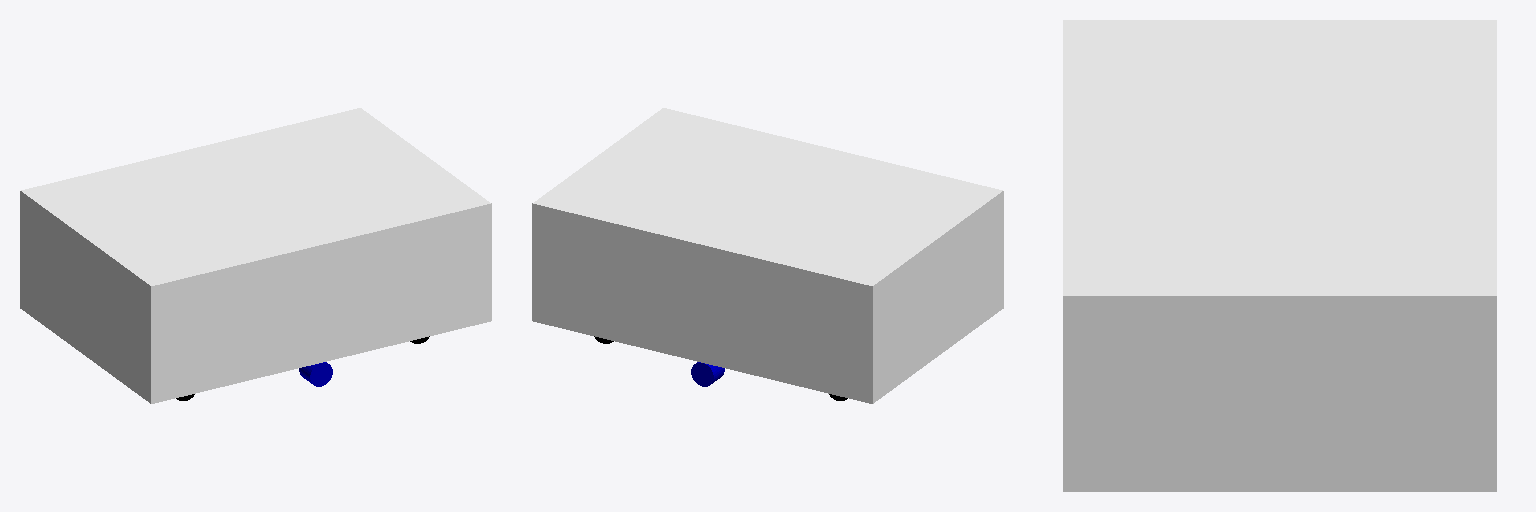
The robot description file, URDF, robot "mir100":
<?xml version="1.0"?>
<robot name="mir100">

  <!-- Material definition -->
  <material name="black">
    <color rgba="0 0 0 1"/>
  </material>

  <material name="white">
    <color rgba="1 1 1 1"/>
  </material>

  <material name="blue">
    <color rgba="0 0 0.8 1"/>
  </material>

  <!-- Base link -->
  <link name="base_link">
    <visual>
      <origin rpy="0 0 0" xyz="0 0 0.209"/>
      <geometry>
        <box size="0.9 0.6 0.298"/>
      </geometry>
      <material name="white"/>
    </visual>
  </link>

  <!-- Right wheels and joint to base link -->
  <link name="right_front_wheel">
    <visual>
      <origin rpy="0 0 0" xyz="0 0 0"/>
      <geometry>
        <sphere radius="0.03"/>
      </geometry>
      <material name="black"/>
    </visual>
  </link>
  <joint name="right_front_wheel_joint" type="fixed">
    <parent link="base_link"/>
    <child link="right_front_wheel"/>
    <origin rpy="0 0 0" xyz="0.31 0.205 0.03"/>
  </joint>

  <link name="right_back_wheel">
    <visual>
      <origin rpy="0 0 0" xyz="0 0 0"/>
      <geometry>
        <sphere radius="0.03"/>
      </geometry>
      <material name="black"/>
    </visual>
  </link>
  <joint name="right_back_wheel_joint" type="fixed">
    <parent link="base_link"/>
    <child link="right_back_wheel"/>
    <origin rpy="0 0 0" xyz="-0.31 0.205 0.03"/>
  </joint>

  <link name="right_wheel">
    <visual>
      <origin rpy="1.57075 0 0" xyz="0 0 0"/>
      <geometry>
        <cylinder length="0.05" radius="0.03"/>
      </geometry>
      <material name="blue"/>
    </visual>
  </link>
  <joint name="right_wheel_joint" type="fixed">
    <parent link="base_link"/>
    <child link="right_wheel"/>
    <origin rpy="0 0 0" xyz="0 0.275 0.03"/>
  </joint>

  <!-- Left wheels and joint to base link -->
  <link name="left_front_wheel">
    <visual>
      <origin rpy="0 0 0" xyz="0 0 0"/>
      <geometry>
        <sphere radius="0.03"/>
      </geometry>
      <material name="black"/>
    </visual>
  </link>
  <joint name="left_front_wheel_joint" type="fixed">
    <parent link="base_link"/>
    <child link="left_front_wheel"/>
    <origin rpy="0 0 0" xyz="0.31 -0.205 0.03"/>
  </joint>

  <link name="left_back_wheel">
    <visual>
      <origin rpy="0 0 0" xyz="0 0 0"/>
      <geometry>
        <sphere radius="0.03"/>
      </geometry>
      <material name="black"/>
    </visual>
  </link>
  <joint name="left_back_wheel_joint" type="fixed">
    <parent link="base_link"/>
    <child link="left_back_wheel"/>
    <origin rpy="0 0 0" xyz="-0.31 -0.205 0.03"/>
  </joint>

  <link name="left_wheel">
    <visual>
      <origin rpy="1.57075 0 0" xyz="0 0 0"/>
      <geometry>
        <cylinder length="0.05" radius="0.03"/>
      </geometry>
      <material name="blue"/>
    </visual>
  </link>
  <joint name="left_wheel_joint" type="fixed">
    <parent link="base_link"/>
    <child link="left_wheel"/>
    <origin rpy="0 0 0" xyz="0 -0.275 0.03"/>
  </joint>

</robot>

--- Facts derived from the render (not from the file) ---
3 views of the same robot in one strip: view 1: azimuth 30°, elevation 25°; view 2: azimuth 150°, elevation 25°; view 3: azimuth 270°, elevation 25° (orthographic).
Robot: mir100 — 7 links, 6 joints (6 fixed); root link base_link; default pose: every joint at zero.
Links seen in each view (by area): view 1: base_link, left_wheel; view 2: base_link, right_wheel; view 3: base_link.
Boxes of the visible links, x1,y1,x2,y2 form: base_link: [20, 108, 491, 403]; left_wheel: [299, 362, 332, 386]; base_link: [532, 108, 1003, 403]; right_wheel: [691, 362, 724, 386]; base_link: [1063, 20, 1496, 491].
Size in the robot's own frame: 0.9 by 0.6 by 0.358 metres.
Geometry: primitives only (box / cylinder / sphere), no mesh files.